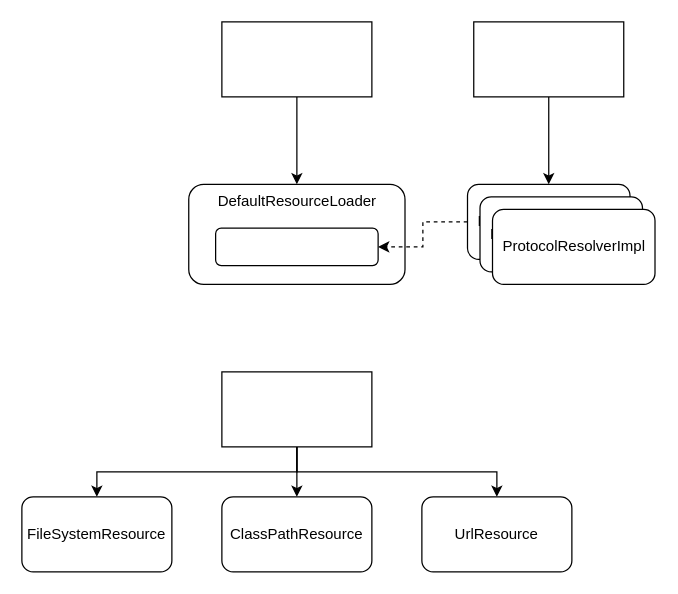
Some shapes in this 678 by 594 pixel diagram are drawn without their labels. The centre of each missing label's shape, as x and y in pixels:
"#getResource" belongs at point (296, 246).
"ProtocolResolver 协议解析器" belongs at point (548, 59).
"Resource 资源句柄" belongs at point (296, 409).
"ResourceLoader 资源加载器" belongs at point (296, 59).
